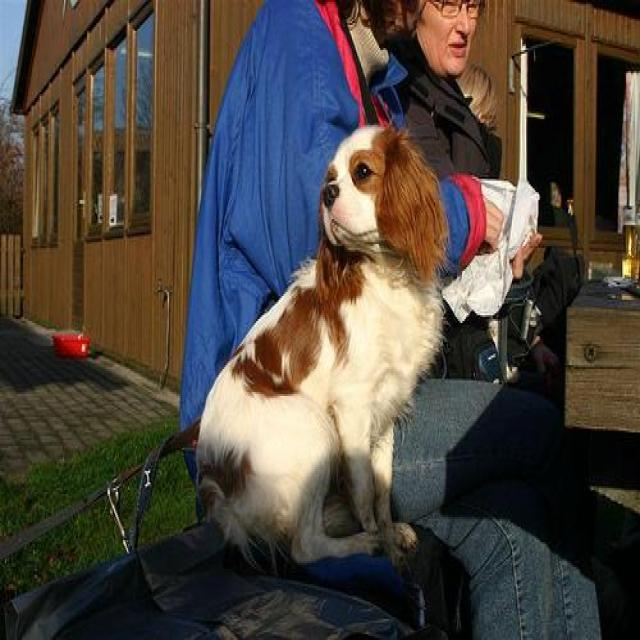blenheim_spaniel: (191, 125, 452, 569)
